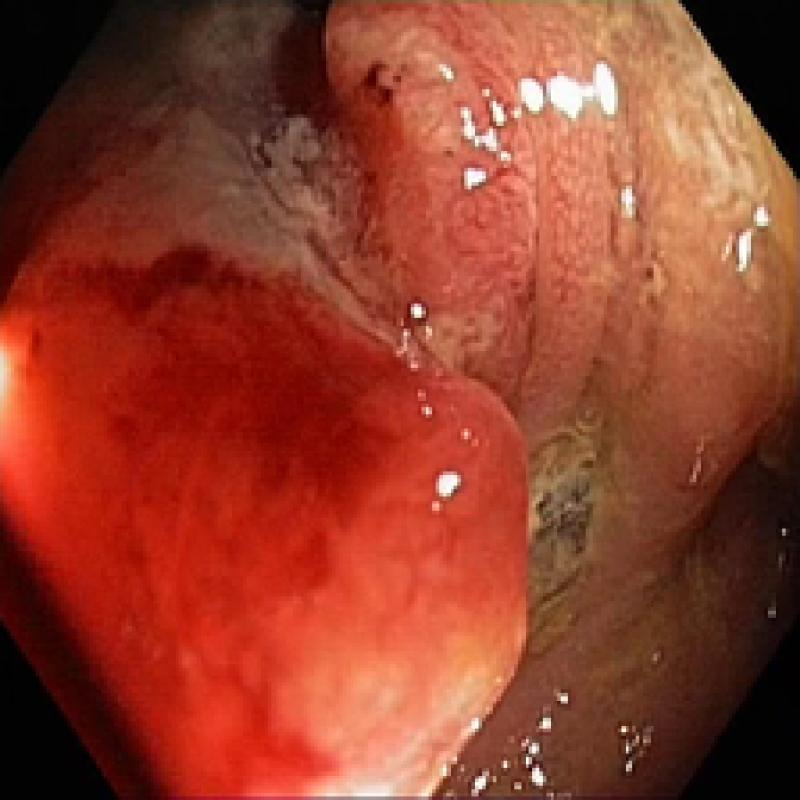bleeding: (0, 250, 529, 793)
